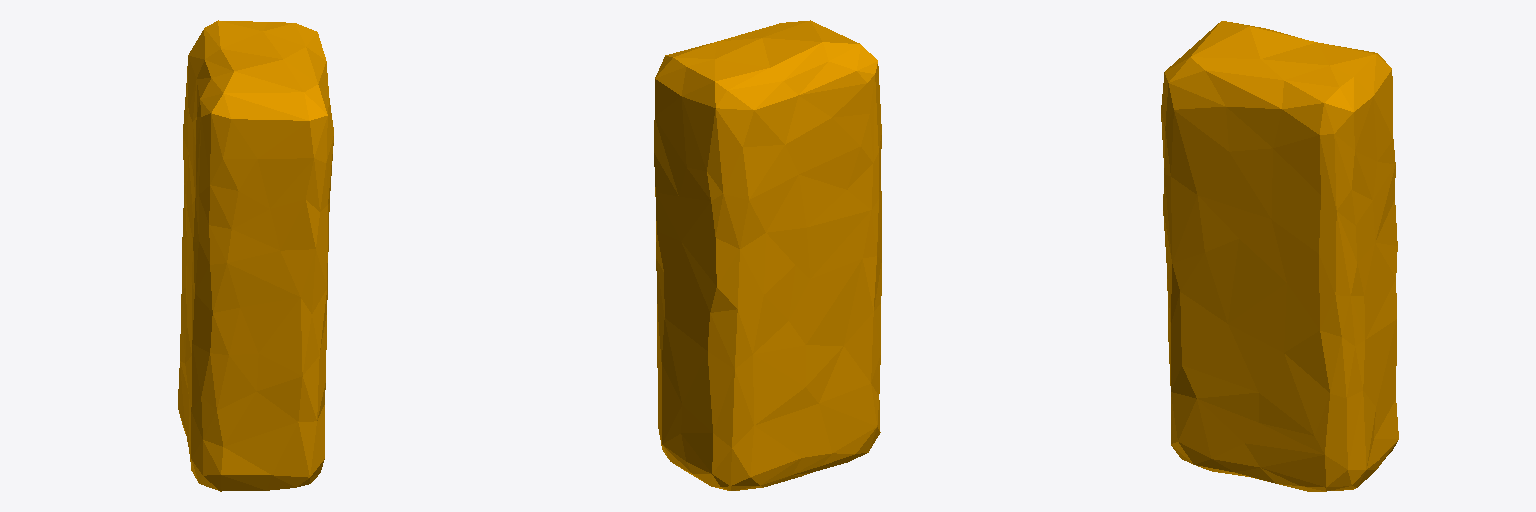
robot.urdf — canon_ack_e10_box:
<?xml version="1.0"?>
<robot name="canon_ack_e10_box">
  <link name="base_link">
    <contact>
      <lateral_friction value="1.0"/>
      <rolling_friction value="0.0"/>
      <contact_cfm value="0.0"/>
      <contact_erp value="1.0"/>
    </contact>
    <inertial>
      <mass value="0.554764659951"/>
      <inertia ixx="1" ixy="0" ixz="0" iyy="1" iyz="0" izz="1"/>
    </inertial>
    <visual>
      <geometry>
        <mesh filename="canon_ack_e10_box_visual.obj"/>
      </geometry>
    </visual>
    <collision>
      <geometry>
        <mesh filename="canon_ack_e10_box_collision.obj"/>
      </geometry>
    </collision>
  </link>
</robot>

--- Facts derived from the render (not from the file) ---
Views: 3 orthographic renders of the robot side by side, from view 1: azimuth 30°, elevation 25°; view 2: azimuth 150°, elevation 25°; view 3: azimuth 270°, elevation 25°.
Robot: canon_ack_e10_box — 1 links, 0 joints (none); root link base_link; default pose: every joint at zero.
Visible links, largest first — view 1: base_link; view 2: base_link; view 3: base_link.
Boxes of the visible links, x1=… form: base_link: x1=178, y1=20, x2=333, y2=491; base_link: x1=654, y1=20, x2=881, y2=490; base_link: x1=1161, y1=21, x2=1398, y2=491.
Bounding box of the posed robot: 0.0609 × 0.07 × 0.1377 m (x, y, z).
Meshes: 1 distinct files referenced, 1 mesh visuals loaded (1 OBJ).